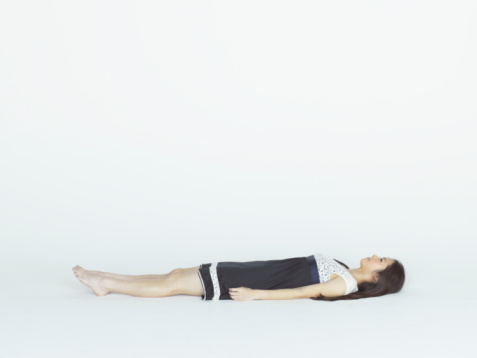deitado: (9, 70, 411, 341)
